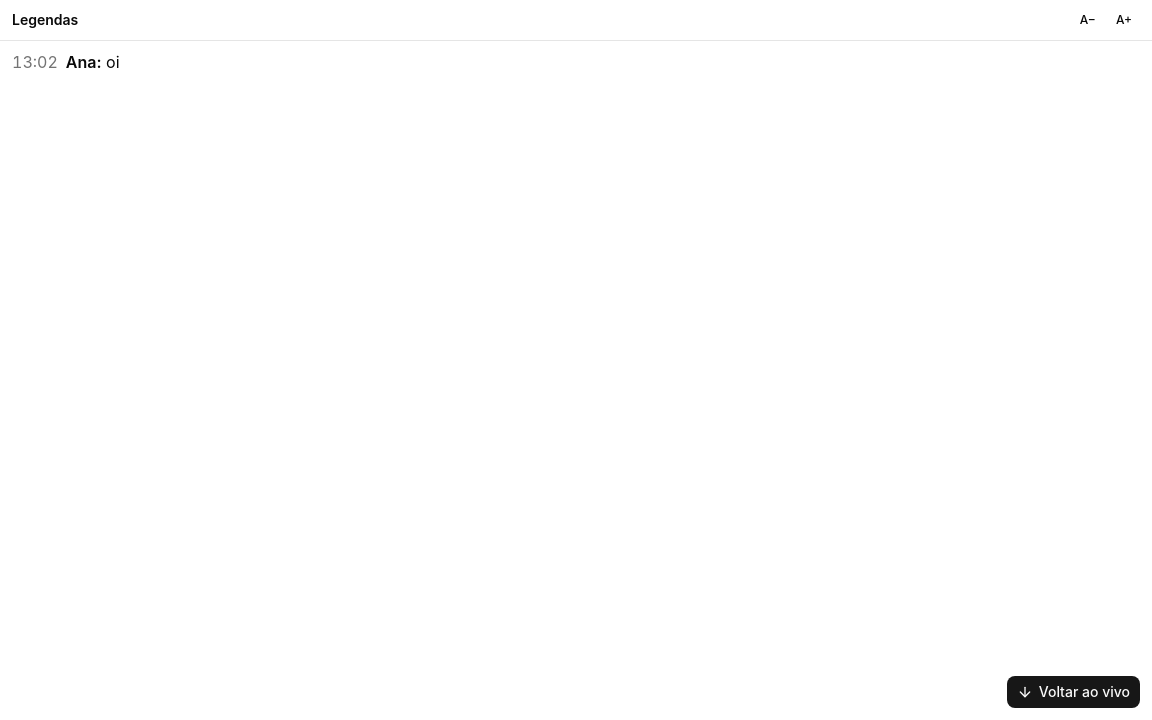
Test: FloatingCaptions › rolar para cima mostra "Voltar ao vivo"
Click the button "Voltar ao vivo". click: (1073, 692)
box: [1007,676,1140,708]
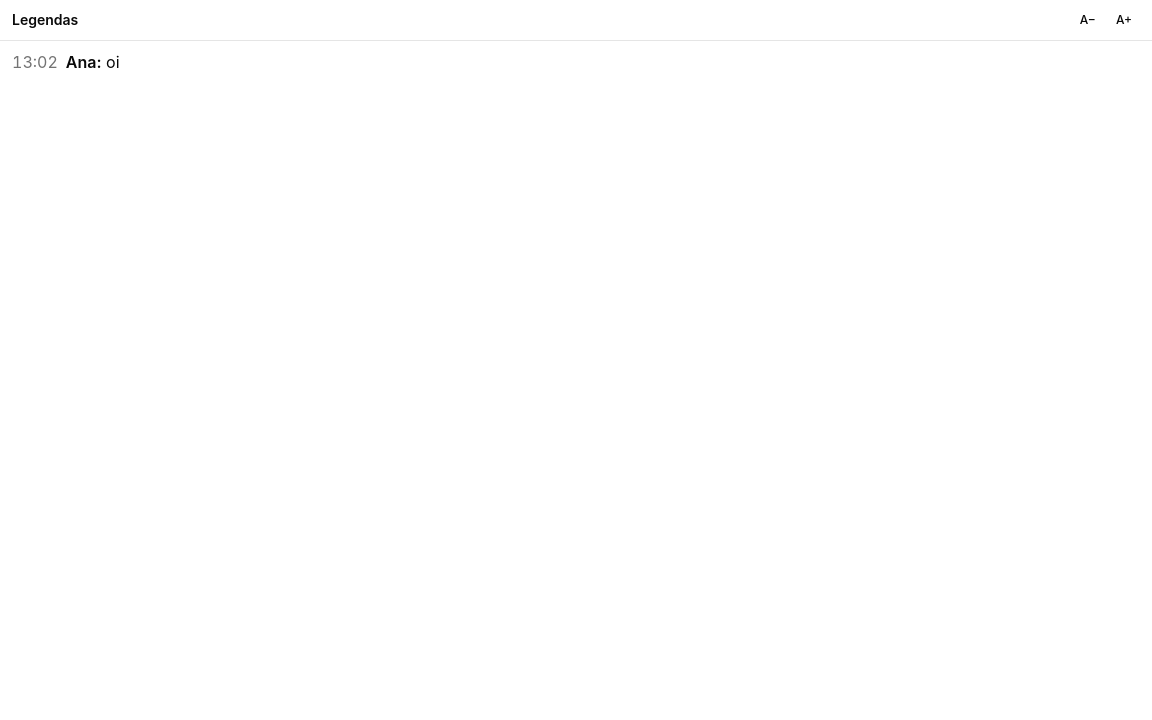
Check: the button "Voltar ao vivo" is gone
